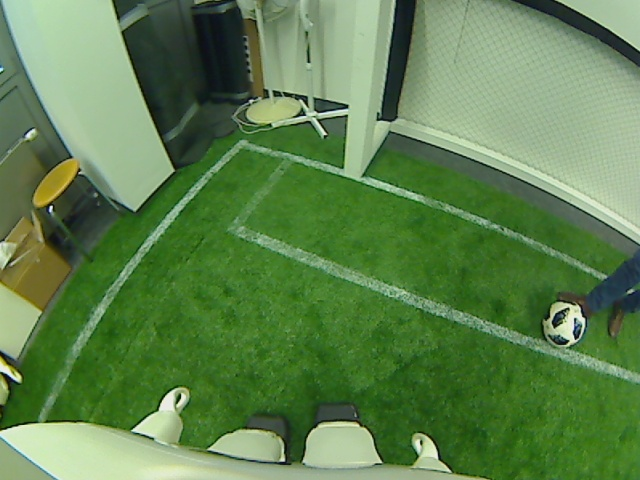ball: (542, 297, 589, 348)
